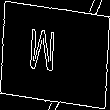M_S: (40, 27, 70, 83)
